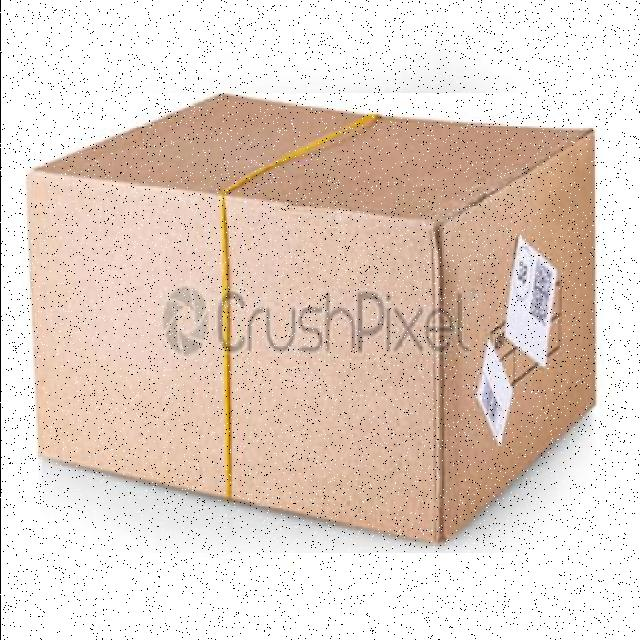normal: (20, 92, 603, 552)
